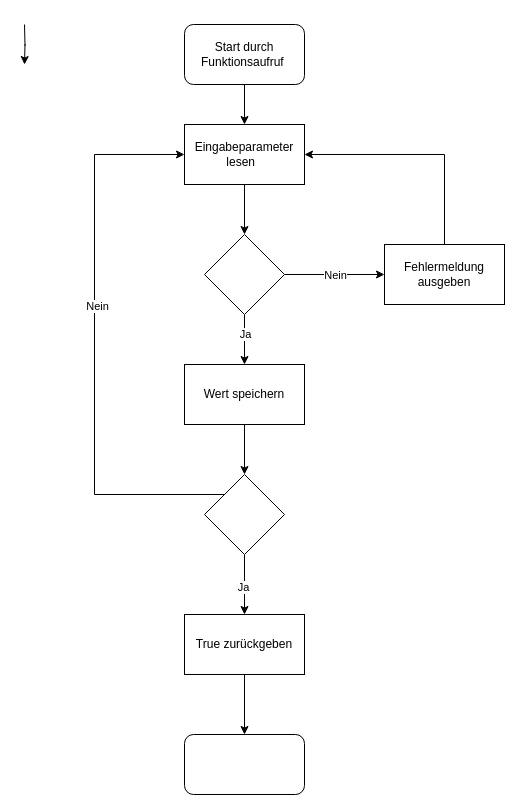
Image size: 522x812. Some labels were removed from this diagram. The box of each missing label's shape, as (x1, y1, x2, y2) in pixels:
Alle Parameter gelesen ?: (204, 474, 284, 554)
Eingabe gültig ?: (204, 234, 284, 314)
ENDE: (184, 734, 304, 794)
